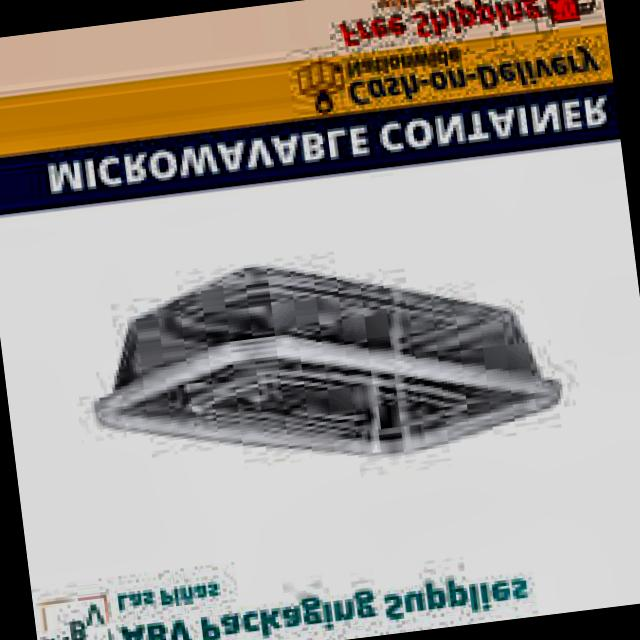plastic container: (95, 267, 560, 454)
